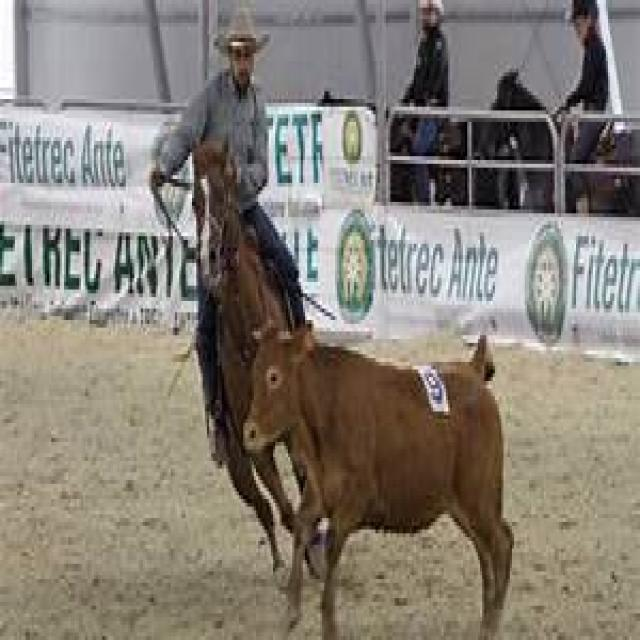horse: (192, 141, 307, 564)
